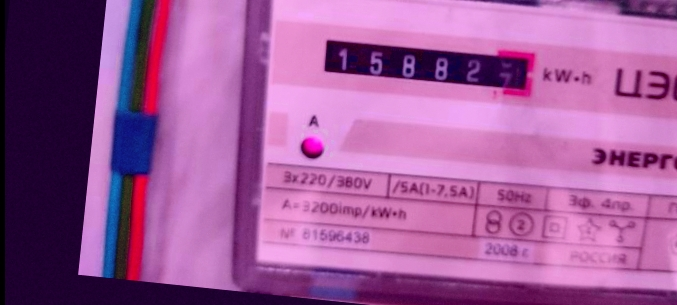1: (336, 45, 352, 71)
2: (465, 57, 483, 82)
5: (367, 47, 386, 75)
7: (498, 68, 514, 88)
8: (400, 52, 419, 79), (433, 54, 451, 81)
screen: (308, 22, 546, 108)
